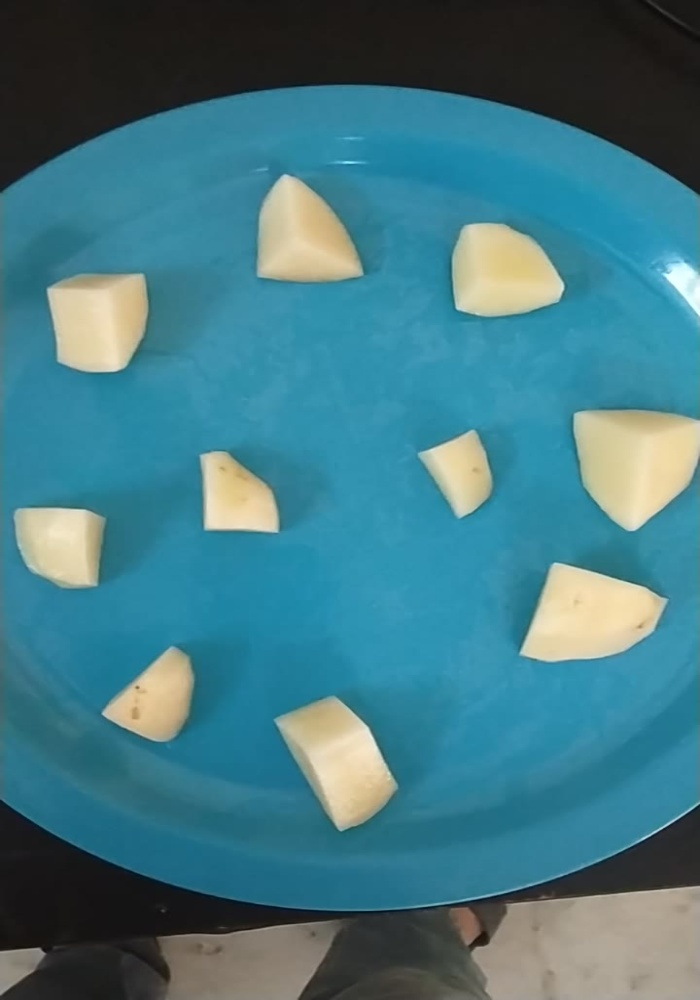potato: (269, 701, 404, 832), (569, 408, 700, 532), (514, 564, 668, 664), (448, 217, 564, 320), (256, 179, 364, 286), (42, 270, 148, 374), (102, 642, 196, 745), (9, 504, 106, 593), (196, 449, 280, 536), (421, 428, 497, 522)
